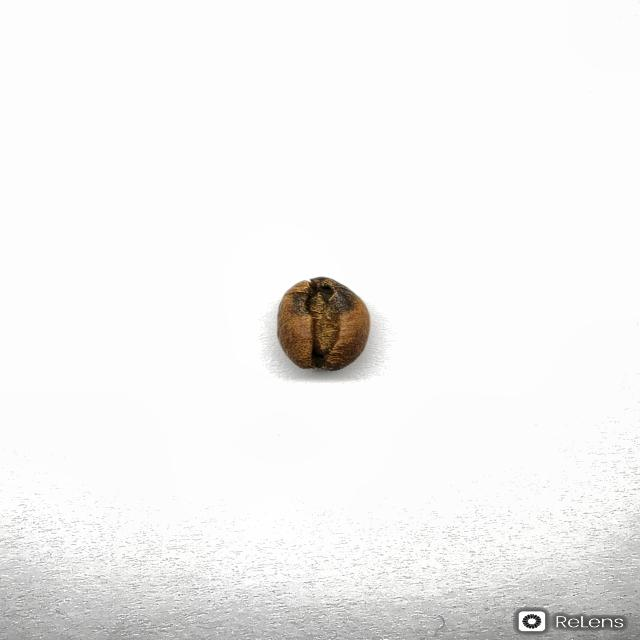Scorched: (277, 277, 370, 371)
